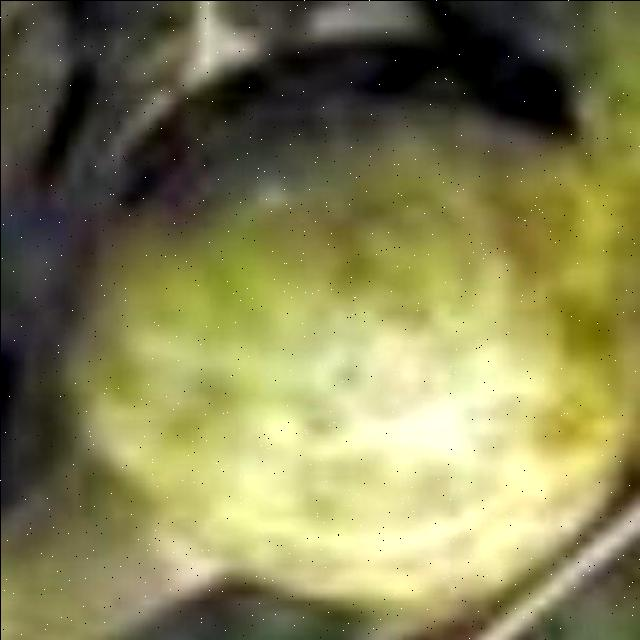BLOTCH: (48, 15, 628, 628)
